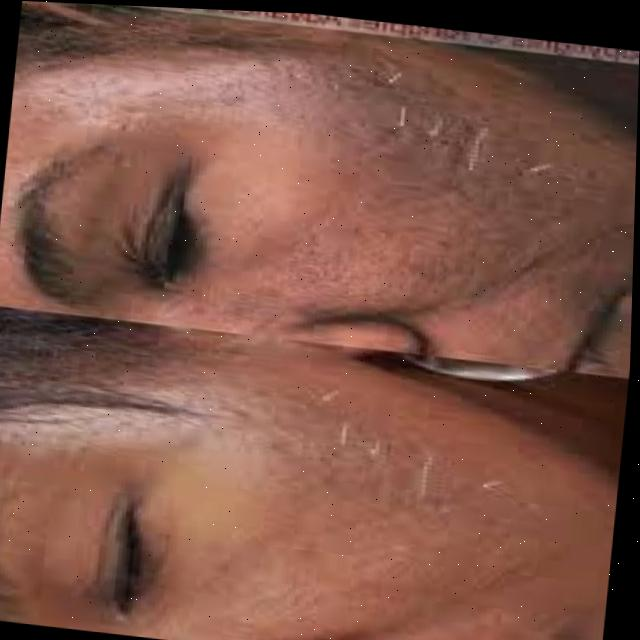Rosacea: (267, 52, 598, 321)
